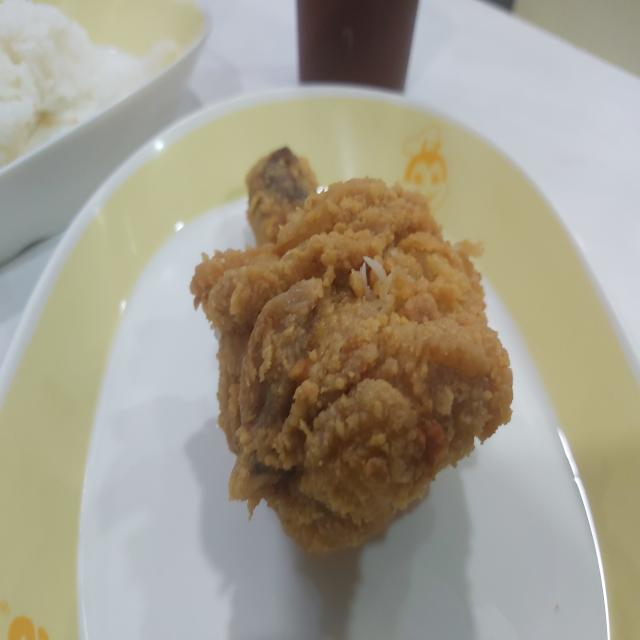Chicken -Fried Chicken-: (182, 139, 521, 606)
